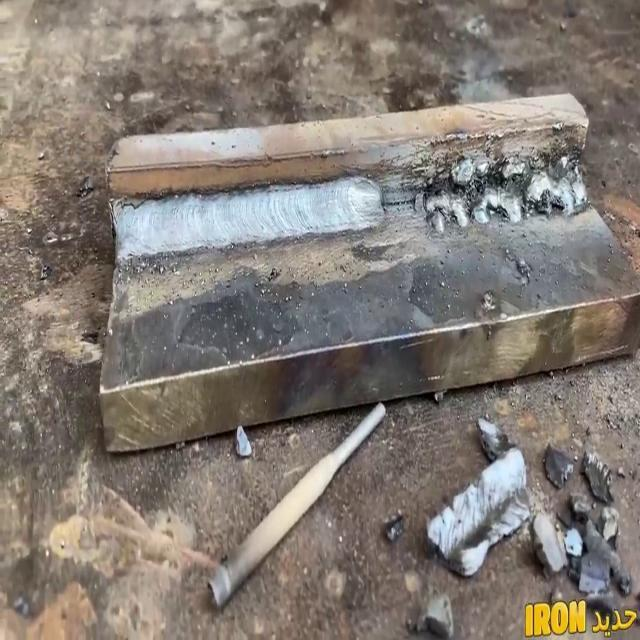Bad Weld: (421, 146, 594, 240)
Good Weld: (114, 174, 382, 260)
